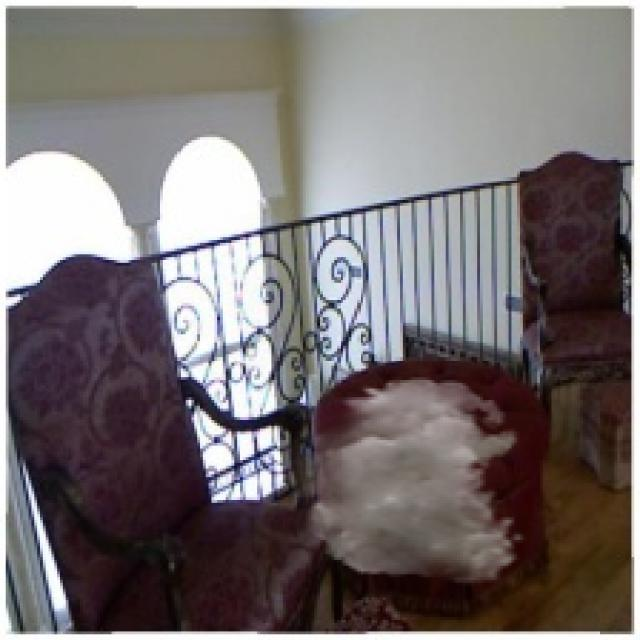smoke: (277, 377, 526, 586)
